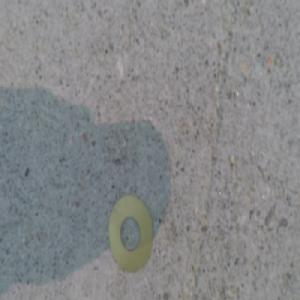Washer: (108, 189, 156, 268)
